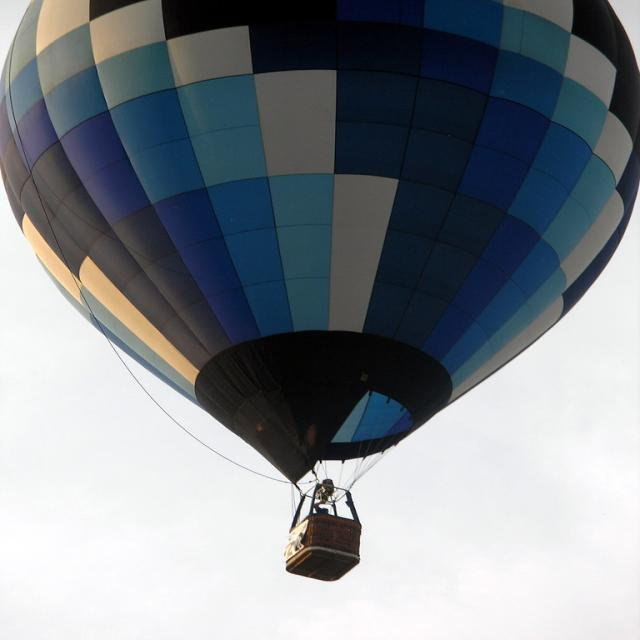balloon: (1, 1, 639, 582)
